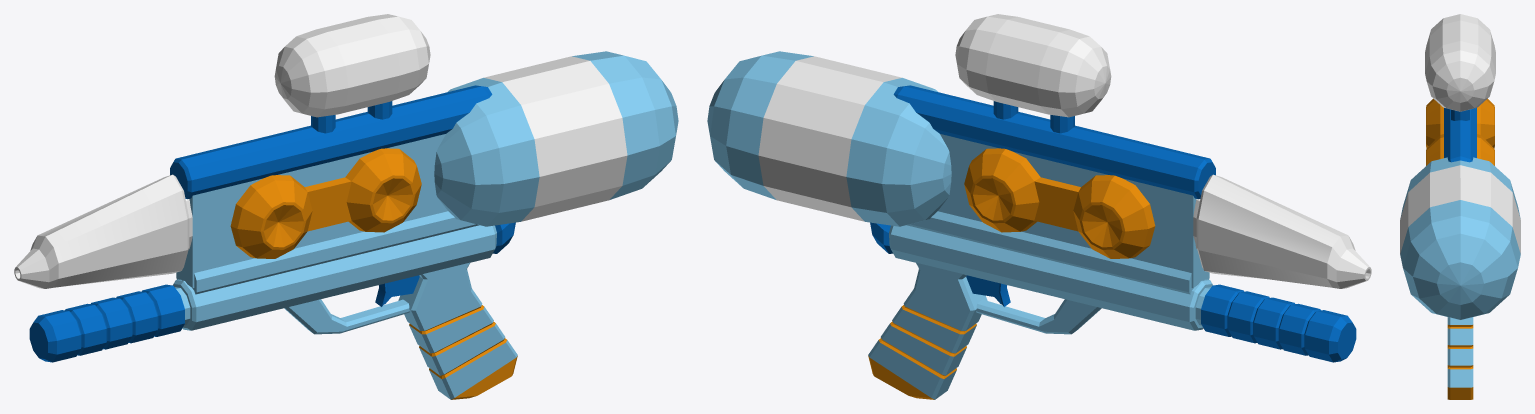
Rendered from Nerf.fbx.
The picture shows the model from 3 angles, left to right: view 1: azimuth 30°, elevation 25°; view 2: azimuth 150°, elevation 25°; view 3: azimuth 270°, elevation 25°; orthographic projection. The views are drawn at different scales.
Visible parts, largest first — view 1: Nerf; view 2: Nerf; view 3: Nerf.
Boxes of the visible parts, <box> form: Nerf: <box>14,14,678,399</box>; Nerf: <box>707,14,1371,399</box>; Nerf: <box>1400,14,1520,399</box>.
Bounding box in the file's own units: 36.43 × 21.11 × 7.22.
